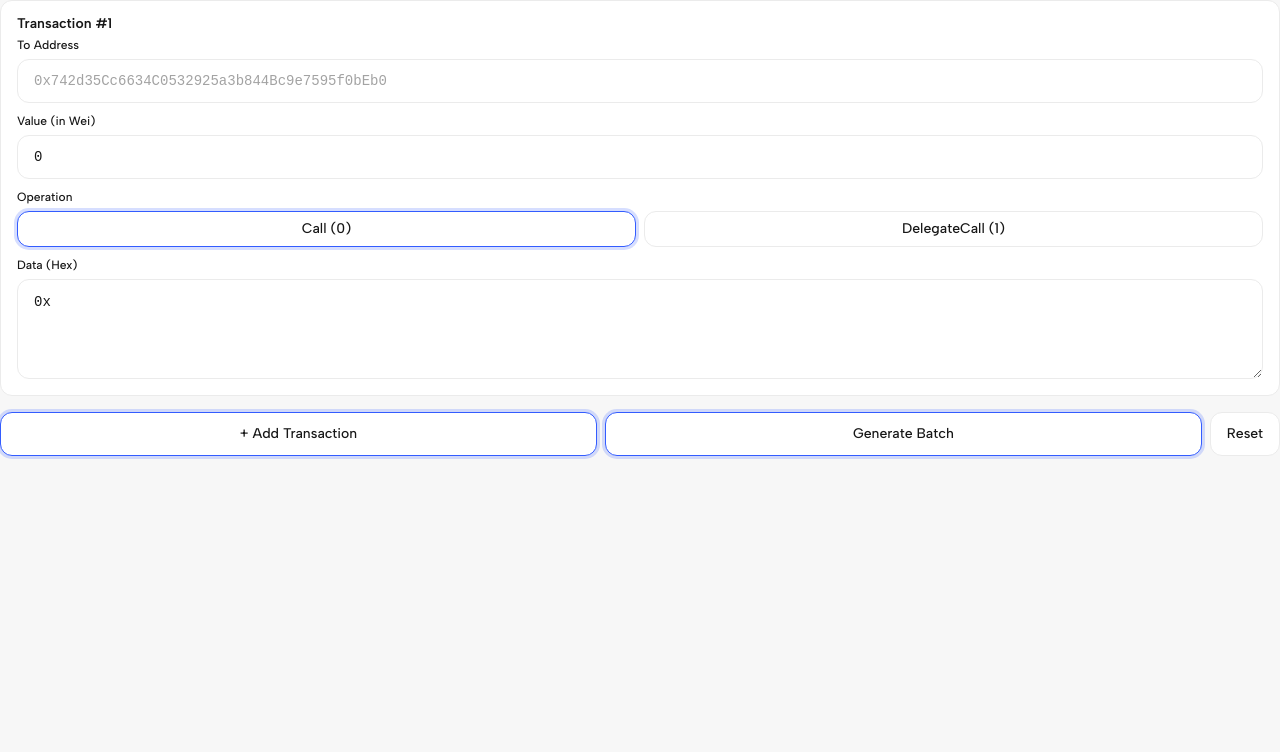
Test case: SafeBatchBuilderTool › adds a new transaction when button is clicked
The width and height of the screenshot is (1280, 752).
What coordinates should you click on to do the following:
click the button "+ Add Transaction"
I would click on:
 (298, 434)
Its box is [0,412,597,456].
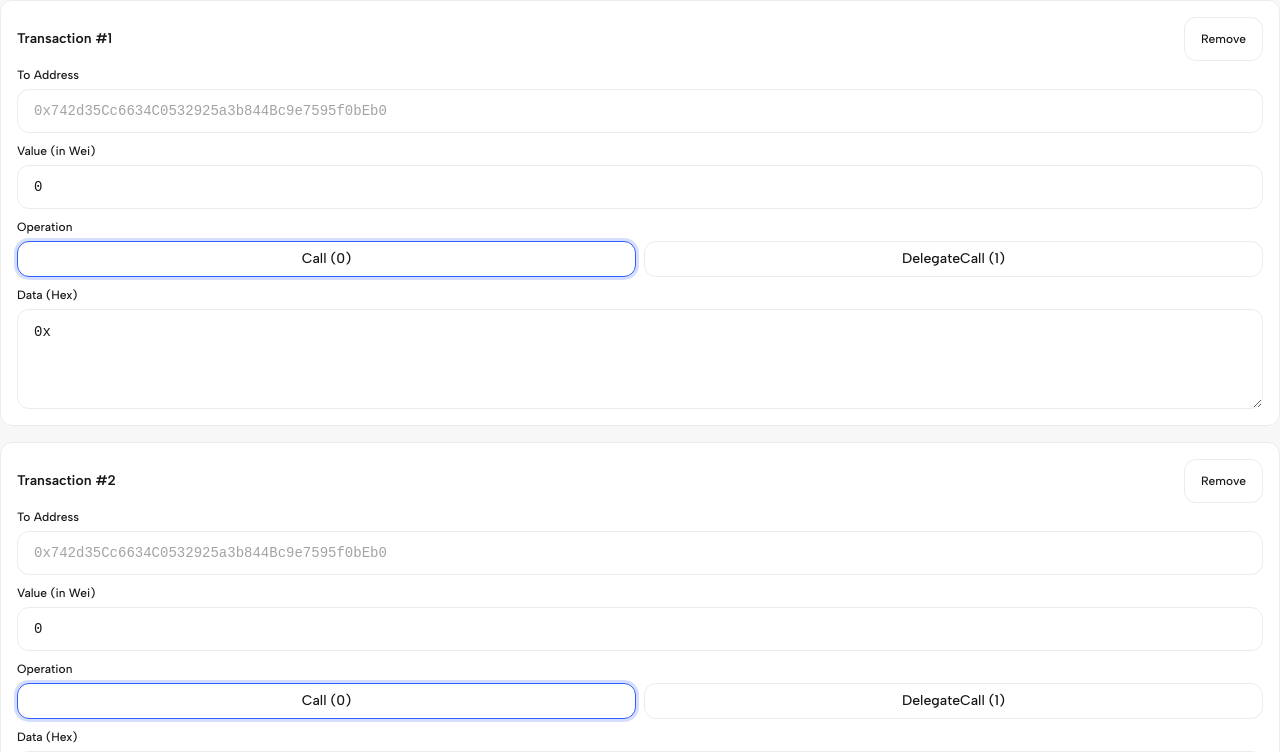
Expected: the text "Transaction #1" is shown, [17,32,112,46]
Now the text "Transaction #2" is shown, box [17,474,116,488]
